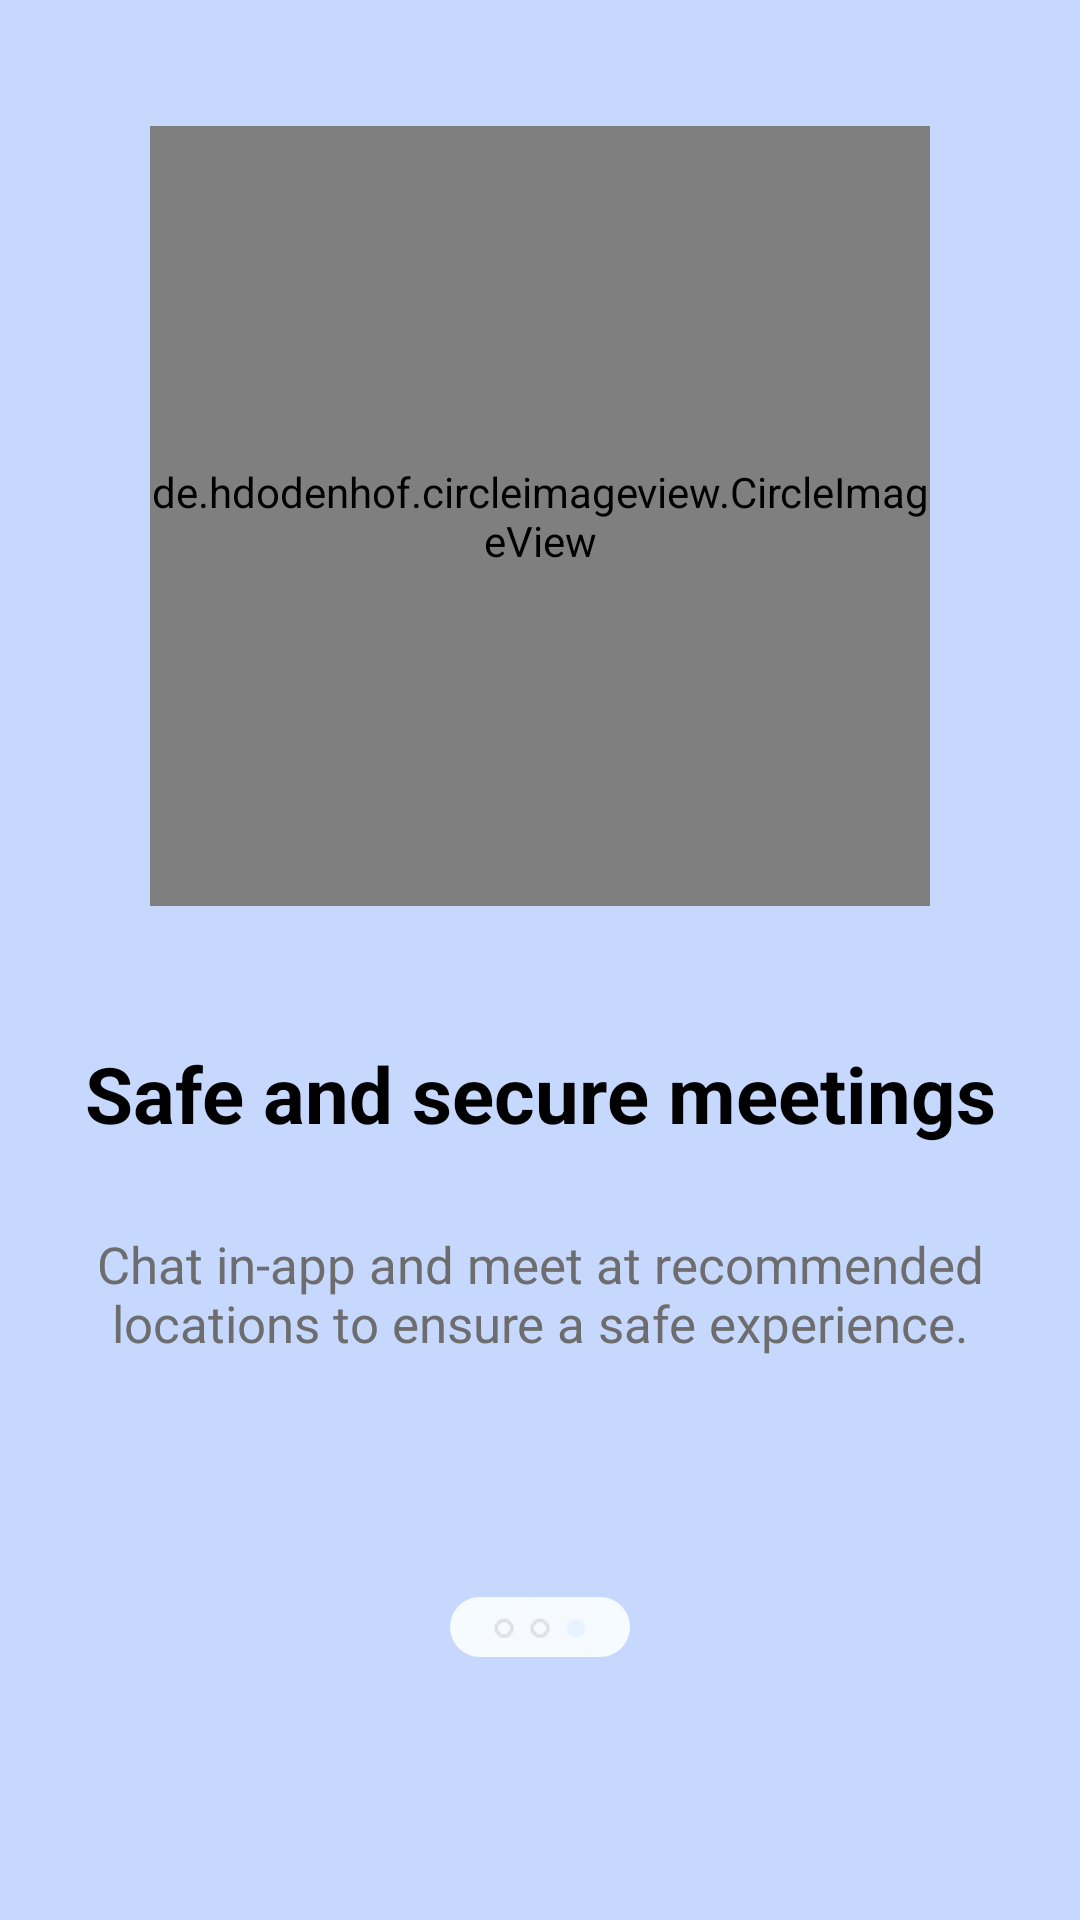

Where icons sit on this 1080*1920 app screen, as (x1=x1, y1=y1, x2=x2, y2=y2):
dotthree: (x1=450, y1=1597, x2=630, y2=1657)
